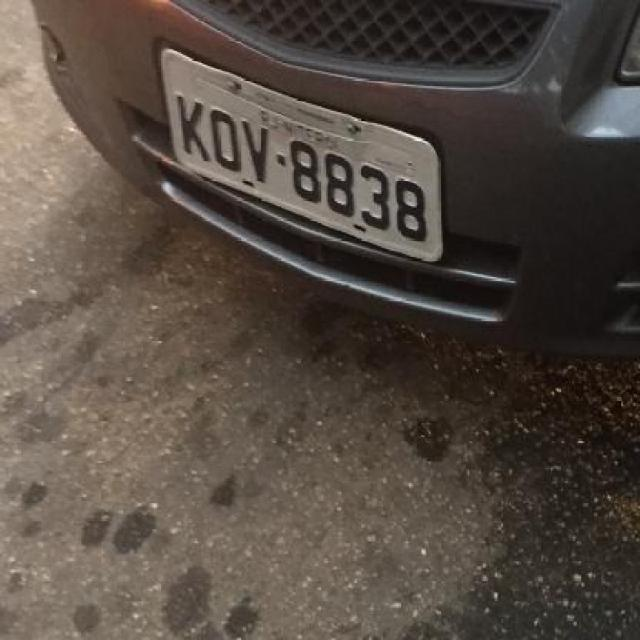old_plate: (152, 44, 449, 268)
